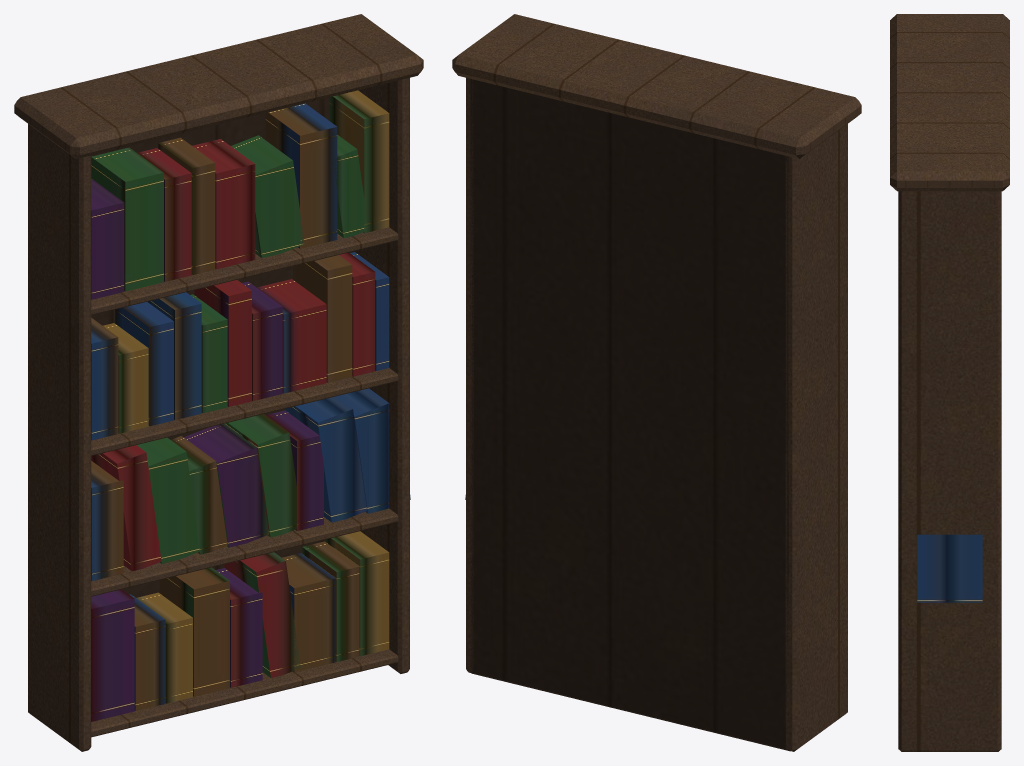
Rendered from bookshelf_lod1.glb.
The picture shows the model from 3 angles, left to right: view 1: azimuth 30°, elevation 25°; view 2: azimuth 150°, elevation 25°; view 3: azimuth 270°, elevation 25°; orthographic projection. The views are drawn at different scales.
Visible parts, largest first — view 1: bookshelf; view 2: bookshelf; view 3: bookshelf.
Part boxes in pixels (<box>): bookshelf: <box>14,14,423,751</box>; bookshelf: <box>452,14,861,751</box>; bookshelf: <box>890,14,1009,751</box>.
Bounding box in the file's own units: 1.42 × 2.37 × 0.44.
1 material, 1 textured.
